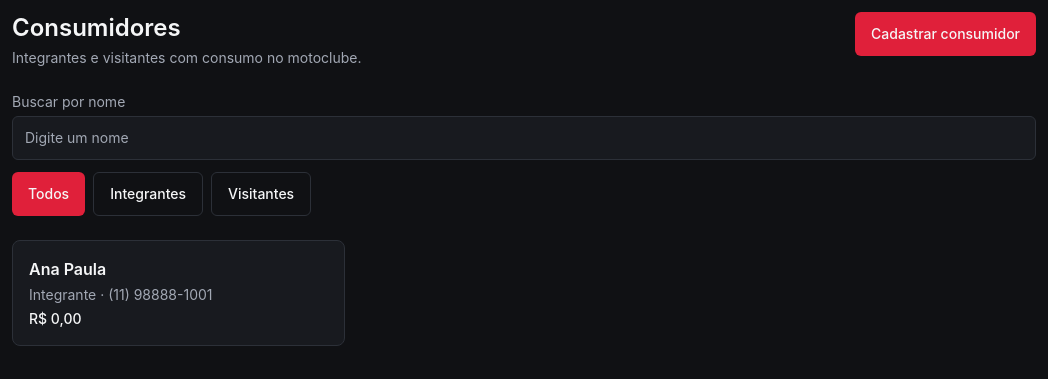
Test: ConsumersView › shows an EmptyState when the search has no results
The width and height of the screenshot is (1048, 379).
Expected: the button "Ana Paula Integrante · (11) 98888-1001 R$ 0,00" is shown, [12,240,345,346]
Type "zzz" into the search field labelled "Buscar por nome" at (524, 138), box [12,116,1036,160]
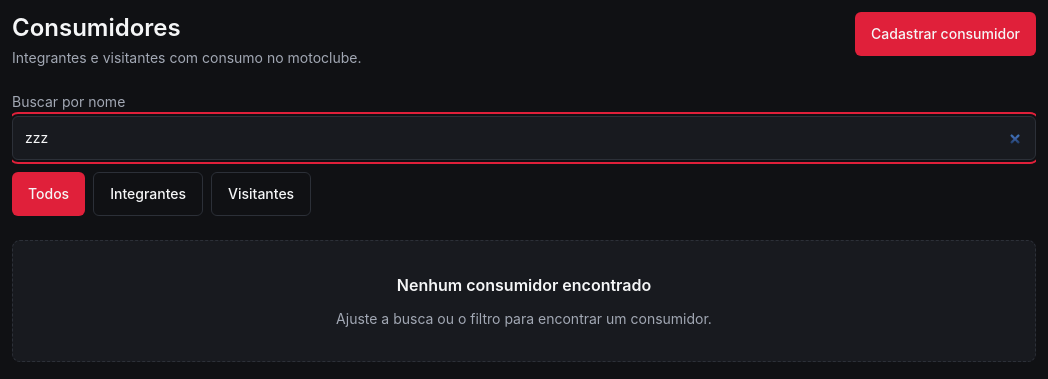
Now the text "Nenhum consumidor encontrado" is shown, box [397,273,651,297]
